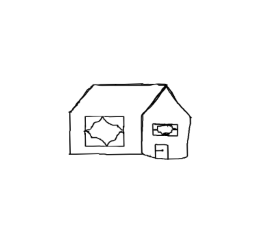door: (151, 140, 173, 165)
open_window: (77, 109, 129, 152), (149, 119, 183, 139)
single_line_roof: (60, 73, 202, 119)
small_house: (1, 0, 260, 229)
wall: (137, 78, 198, 166)
